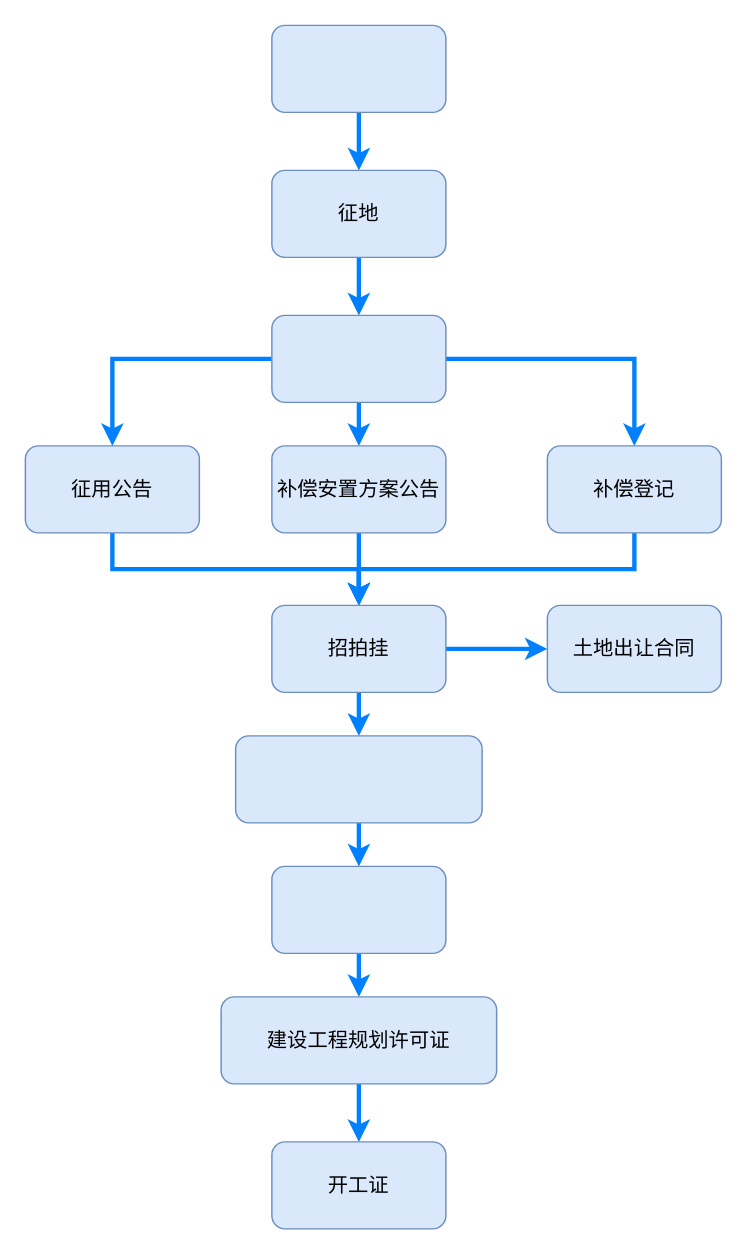
Image size: 747x1254. Some labels were removed from this diagram. The box of each missing label's shape, as (x1, y1, x2, y2) in pixels:
土地证: (270, 865, 446, 953)
土地预审: (270, 24, 446, 112)
建设用地规划许可证: (234, 734, 482, 823)
转用手续: (270, 314, 446, 402)
